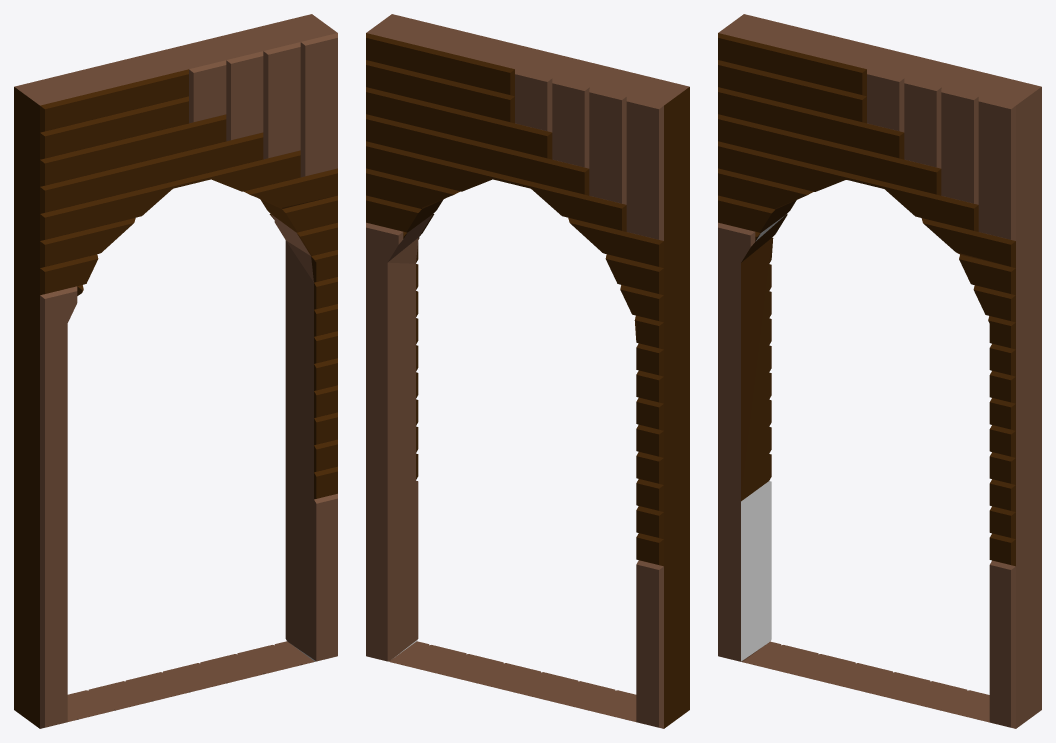
Rendered from WoodenBoardDoorframe.glb.
3 views of the same model, side by side, from view 1: azimuth 30°, elevation 25°; view 2: azimuth 150°, elevation 25°; view 3: azimuth 330°, elevation 25° (orthographic).
Visible parts, largest first — view 1: wall_woodenBoard_door; view 2: wall_woodenBoard_door; view 3: wall_woodenBoard_door.
Boxes of the visible parts, bbox=[...] form: wall_woodenBoard_door: bbox=[14, 14, 337, 728]; wall_woodenBoard_door: bbox=[366, 14, 689, 728]; wall_woodenBoard_door: bbox=[718, 14, 1041, 728].
Size of what is drawn, in the model's own units: 2 by 4 by 0.3576.
Materials: 1 (1 with a texture image).
